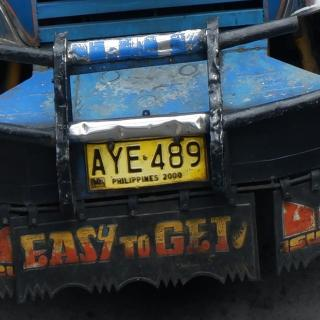license: (86, 137, 209, 192)
